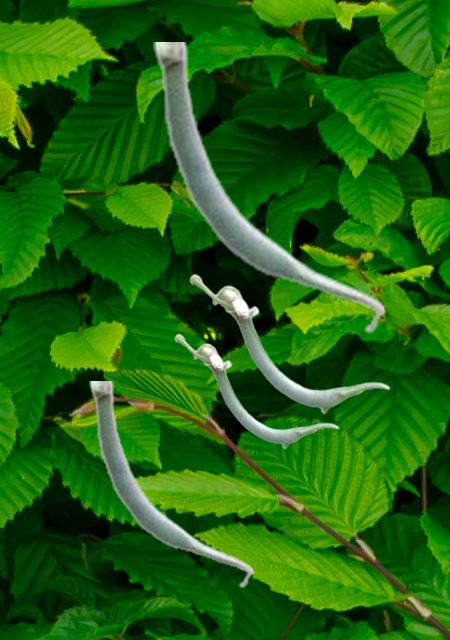french_bean: (153, 42, 385, 334), (89, 381, 253, 588), (189, 273, 389, 413), (174, 333, 338, 448)
